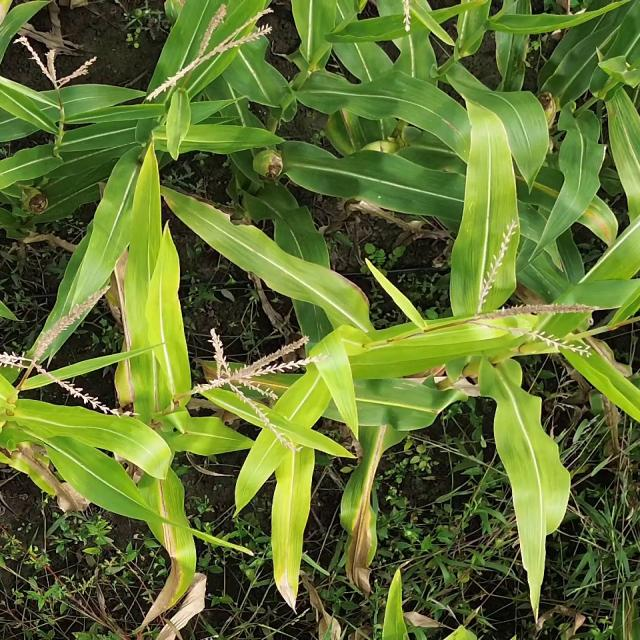gray-leaf-spot: (347, 374, 438, 425)
northern-leaf-blight: (330, 413, 409, 580), (150, 483, 228, 602), (516, 177, 630, 246), (310, 254, 384, 320)
